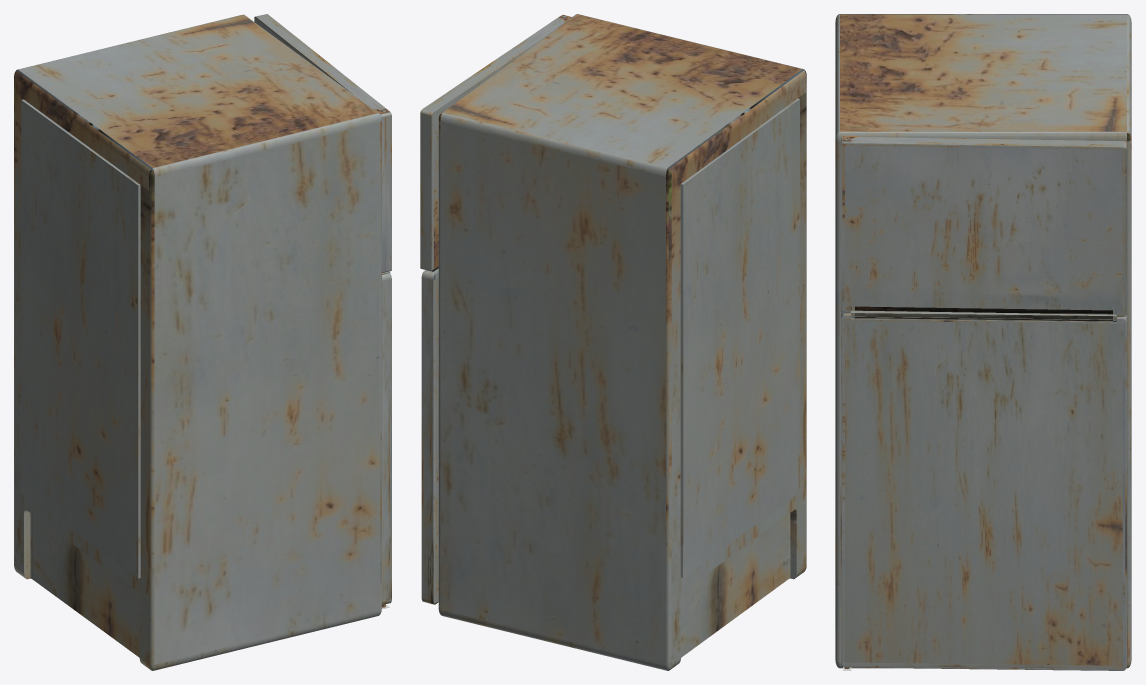
The model's file is holoilnik.fbx.
3 views of the same model, side by side, from view 1: azimuth 30°, elevation 25°; view 2: azimuth 150°, elevation 25°; view 3: azimuth 270°, elevation 25° (orthographic). The views are drawn at different scales.
Visible parts, largest first — view 1: Cylinder.002, dv1, dv2; view 2: Cylinder.002, dv2, dv1; view 3: dv2, dv1, Cylinder.002.
Boxes of the visible parts, x1=… form: Cylinder.002: x1=14, y1=14, x2=390, y2=670; dv1: x1=254, y1=14, x2=391, y2=272; dv2: x1=382, y1=273, x2=391, y2=604; Cylinder.002: x1=438, y1=14, x2=806, y2=670; dv2: x1=421, y1=268, x2=438, y2=604; dv1: x1=420, y1=16, x2=564, y2=271; dv2: x1=841, y1=310, x2=1127, y2=670; dv1: x1=840, y1=137, x2=1127, y2=316; Cylinder.002: x1=835, y1=14, x2=1131, y2=670.
Bounding box in the file's own units: 127 × 240 × 120.
Materials: 3 (2 with a texture image).
